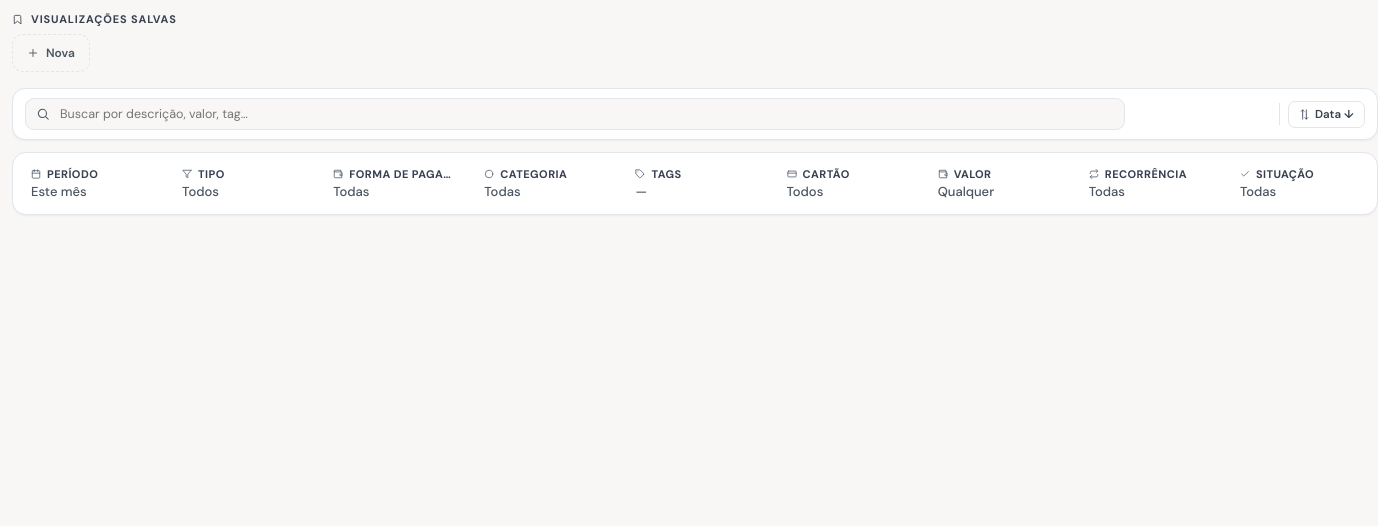
Test: <TransactionsFilterBar> › clicar num facet card abre o painel inline correspondente
Click the button with aria-label "Tipo:".
click(242, 184)  # box [170,159,313,208]
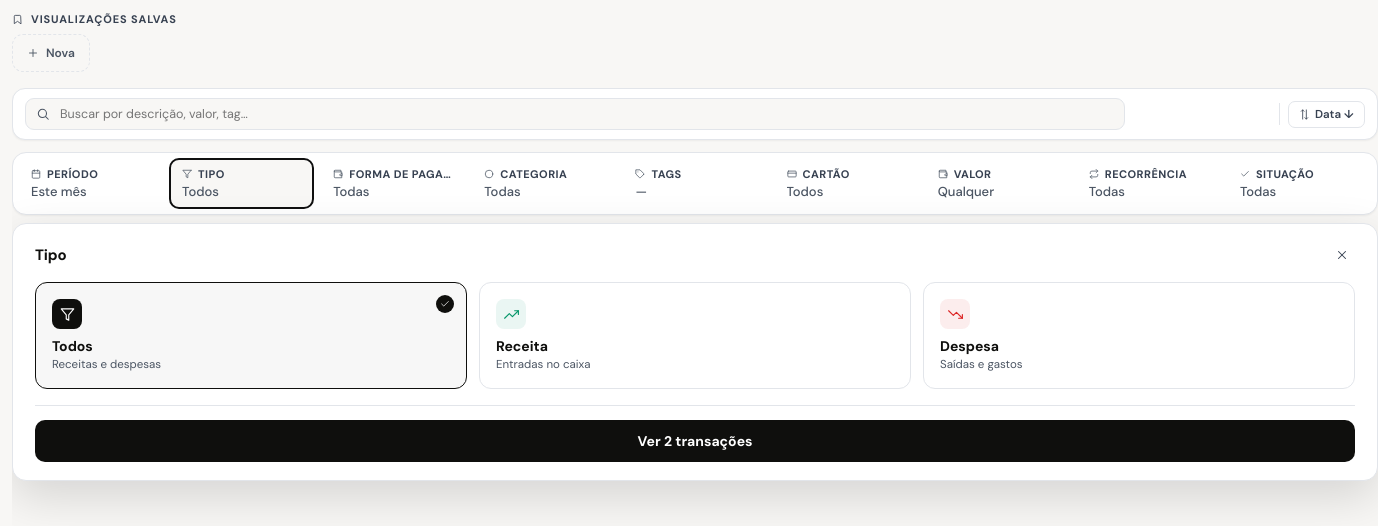
Check: the element named "Filtro: tipo" is shown, box [12,223,1377,481]
Check: the button "Despesa Saídas e gastos" is shown, box [923,282,1355,389]
